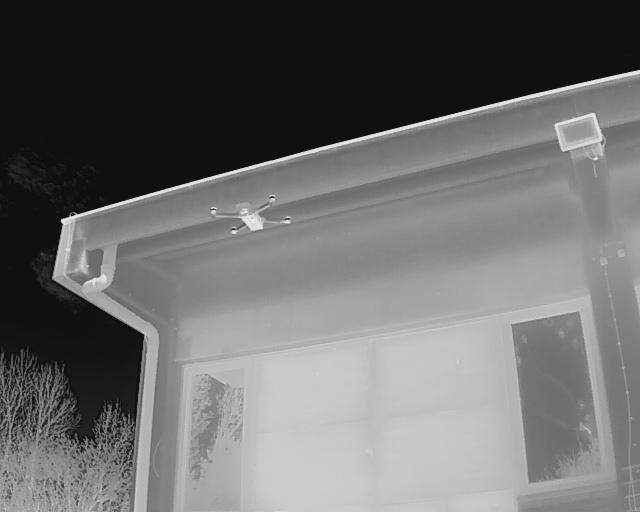drone: (200, 187, 299, 249)
